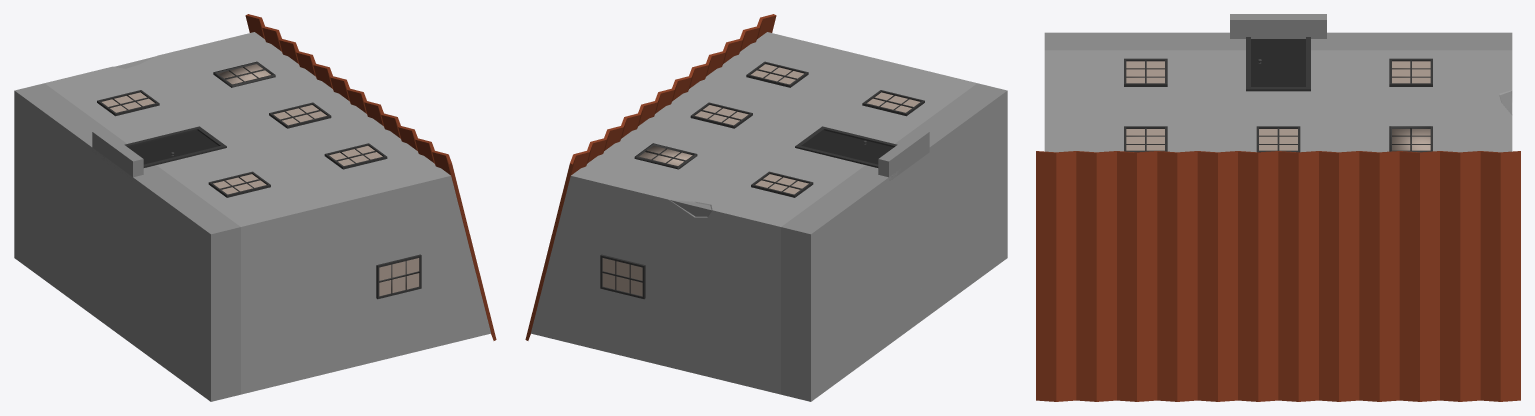
The model's file is Building2Broke.fbx.
3 views of the same model, side by side, from view 1: azimuth 30°, elevation 25°; view 2: azimuth 150°, elevation 25°; view 3: azimuth 270°, elevation 25° (orthographic). The views are drawn at different scales.
Visible parts, largest first — view 1: Building2_fracturepart7, Building2_fracturepart18, Building2_fracturepart30, Building2_fracturepart23, Building2_fracturepart17, Building2_fracturepart28, Building2_fracturepart48, Building2_fracturepart9, Building2_fracturepart27, Building2_fracturepart50, Building2_fracturepart24, Building2_fracturepart34 (+33 smaller); view 2: Building2_fracturepart28, Building2_fracturepart17, Building2_fracturepart36, Building2_fracturepart42, Building2_fracturepart14, Building2_fracturepart35, Building2_fracturepart7, Building2_fracturepart9, Building2_fracturepart34, Building2_fracturepart50, Building2_fracturepart24, Building2_fracturepart27 (+31 smaller); view 3: Building2_fracturepart46_2, Building2_fracturepart43_2, Building2_fracturepart33_2, Building2_fracturepart29_2, Building2_fracturepart12_2, Building2_fracturepart3_7, Building2_fracturepart8_4, Building2_fracturepart41_6, Building2_fracturepart35_5, Building2_fracturepart17, Building2_fracturepart50, Building2_fracturepart48 (+25 smaller).
Part boxes in pixels (box(x1,y1,x2,y2)): Building2_fracturepart7: box(162, 214, 268, 376); Building2_fracturepart18: box(189, 208, 326, 345); Building2_fracturepart30: box(342, 161, 468, 256); Building2_fracturepart23: box(292, 271, 428, 378); Building2_fracturepart17: box(18, 82, 166, 190); Building2_fracturepart28: box(129, 32, 304, 95); Building2_fracturepart48: box(211, 161, 347, 242); Building2_fracturepart9: box(57, 183, 109, 311); Building2_fracturepart27: box(100, 141, 187, 272); Building2_fracturepart50: box(158, 105, 310, 156); Building2_fracturepart24: box(144, 155, 243, 268); Building2_fracturepart34: box(14, 101, 60, 269); Building2_fracturepart28: box(572, 134, 732, 272); Building2_fracturepart17: box(740, 157, 900, 271); Building2_fracturepart36: box(651, 193, 746, 352); Building2_fracturepart42: box(603, 271, 739, 384); Building2_fracturepart14: box(729, 205, 816, 322); Building2_fracturepart35: box(531, 244, 622, 350); Building2_fracturepart7: box(959, 87, 1007, 232); Building2_fracturepart9: box(854, 201, 905, 365); Building2_fracturepart34: box(793, 236, 857, 345); Building2_fracturepart50: box(726, 108, 854, 164); Building2_fracturepart24: box(844, 103, 980, 195); Building2_fracturepart27: box(844, 138, 959, 238); Building2_fracturepart46_2: box(1036, 278, 1204, 401); Building2_fracturepart43_2: box(1358, 152, 1520, 298); Building2_fracturepart33_2: box(1179, 266, 1321, 401); Building2_fracturepart29_2: box(1291, 167, 1407, 336); Building2_fracturepart12_2: box(1310, 294, 1467, 401); Building2_fracturepart3_7: box(1147, 151, 1280, 285); Building2_fracturepart8_4: box(1172, 151, 1313, 289); Building2_fracturepart41_6: box(1074, 151, 1158, 278); Building2_fracturepart35_5: box(1432, 262, 1520, 401); Building2_fracturepart17: box(1297, 32, 1504, 87); Building2_fracturepart50: box(1217, 65, 1357, 142); Building2_fracturepart48: box(1044, 48, 1199, 118).
Bounding box in the file's own units: 717 × 452 × 882.
Materials: 1 (1 with a texture image).
